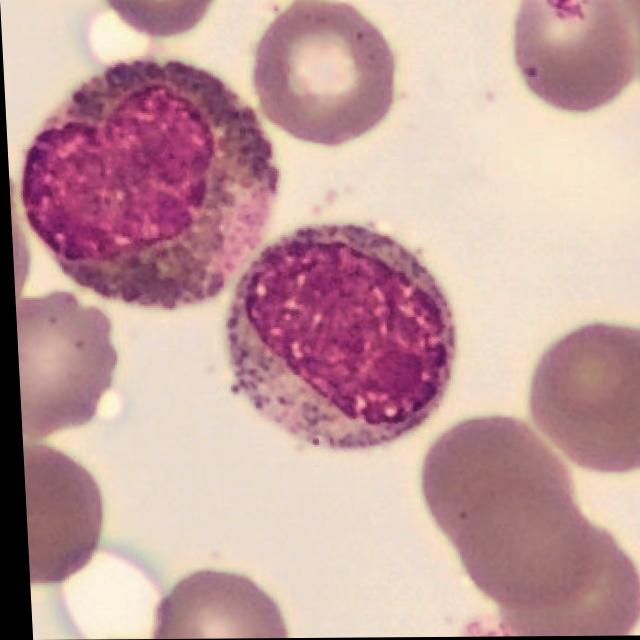Metamielocito: (22, 56, 276, 308)
Mielocito: (219, 222, 453, 451)
